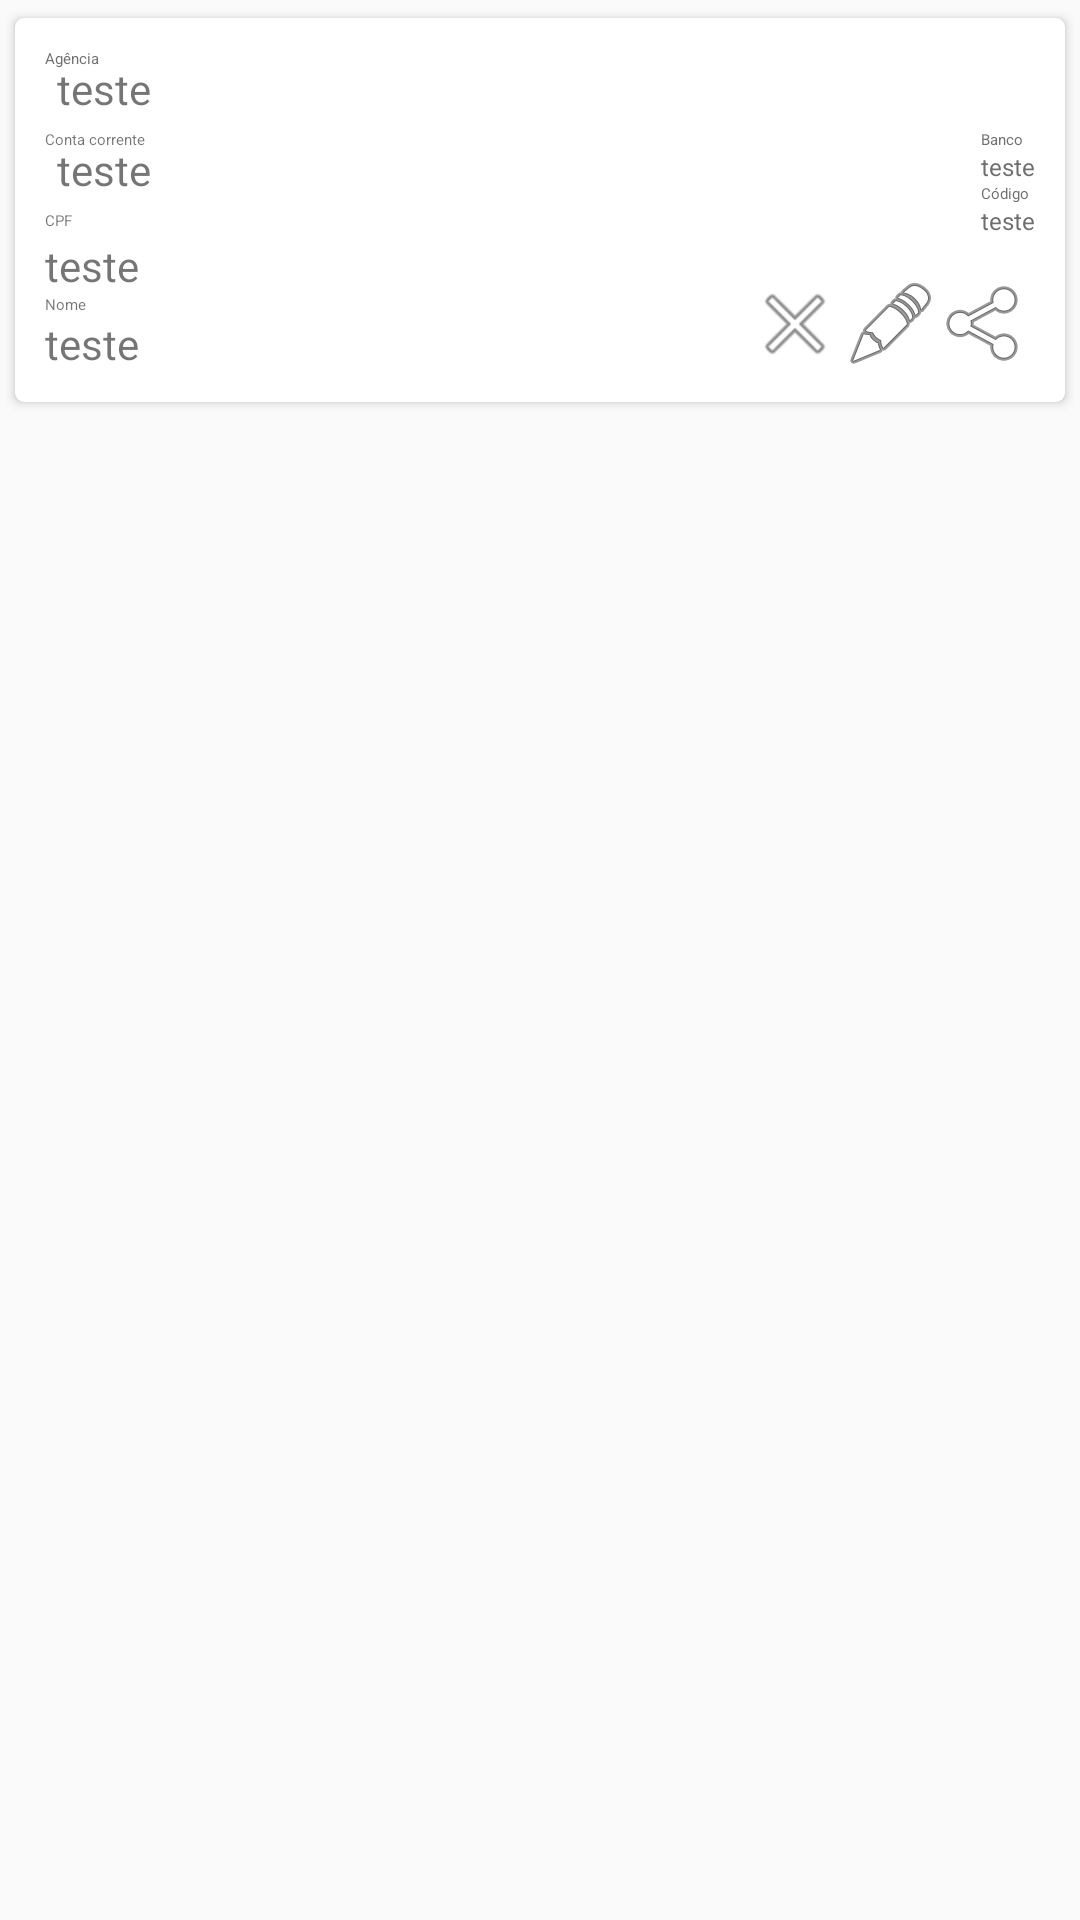

Icon click points for this 1080 x 1920 phone screenshot, format (x=x, y=y):
close clear cancel: (x=795, y=324)
edit: (x=890, y=323)
share: (x=982, y=323)
